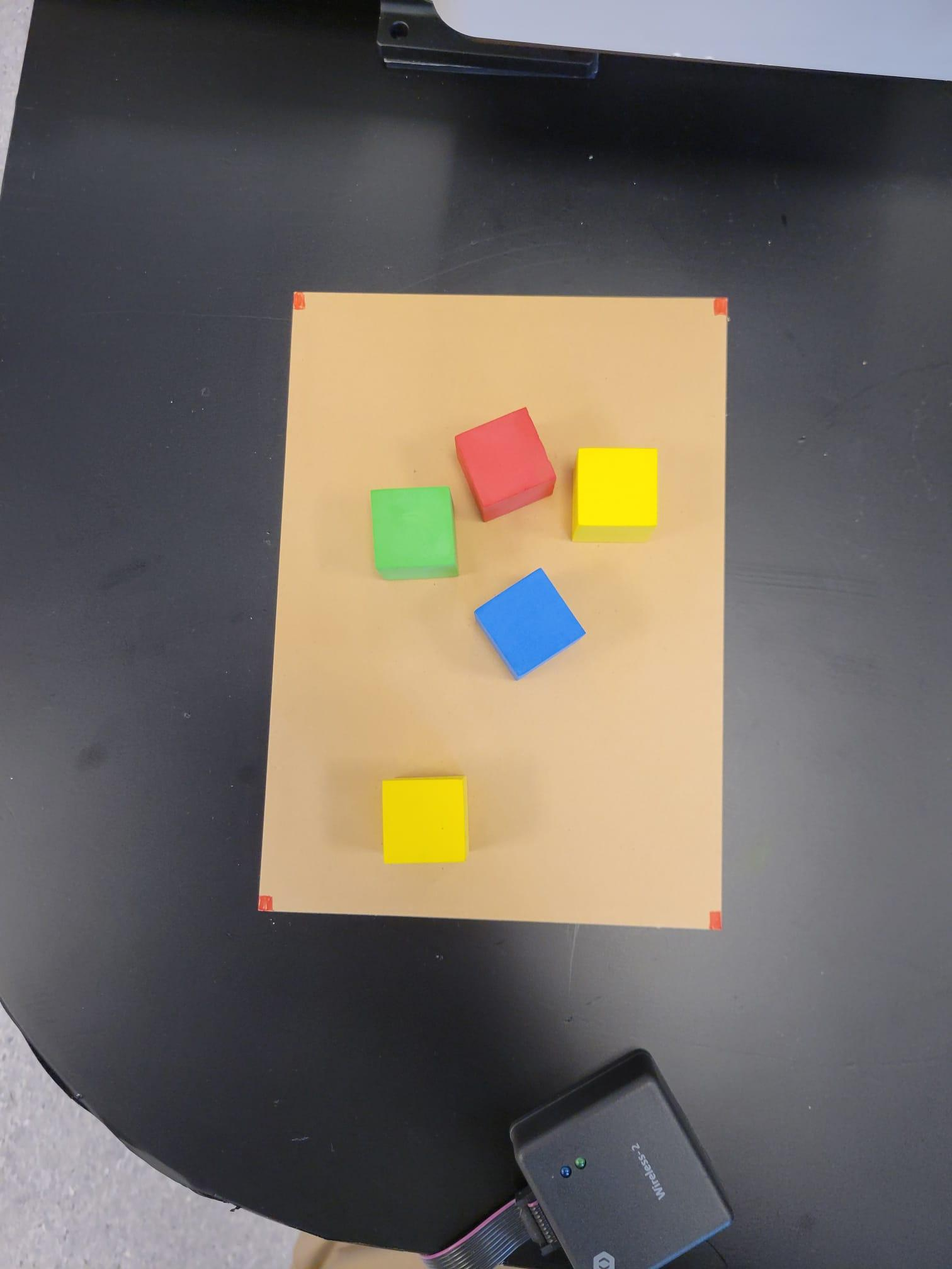cube: (477, 567, 587, 683), (453, 401, 556, 522), (371, 489, 460, 579), (576, 447, 658, 538), (381, 777, 466, 862)
